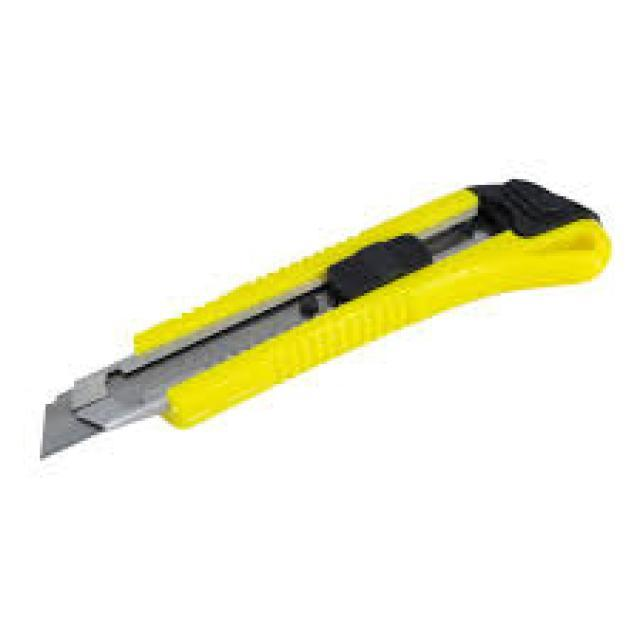cutter: (29, 170, 614, 465)
